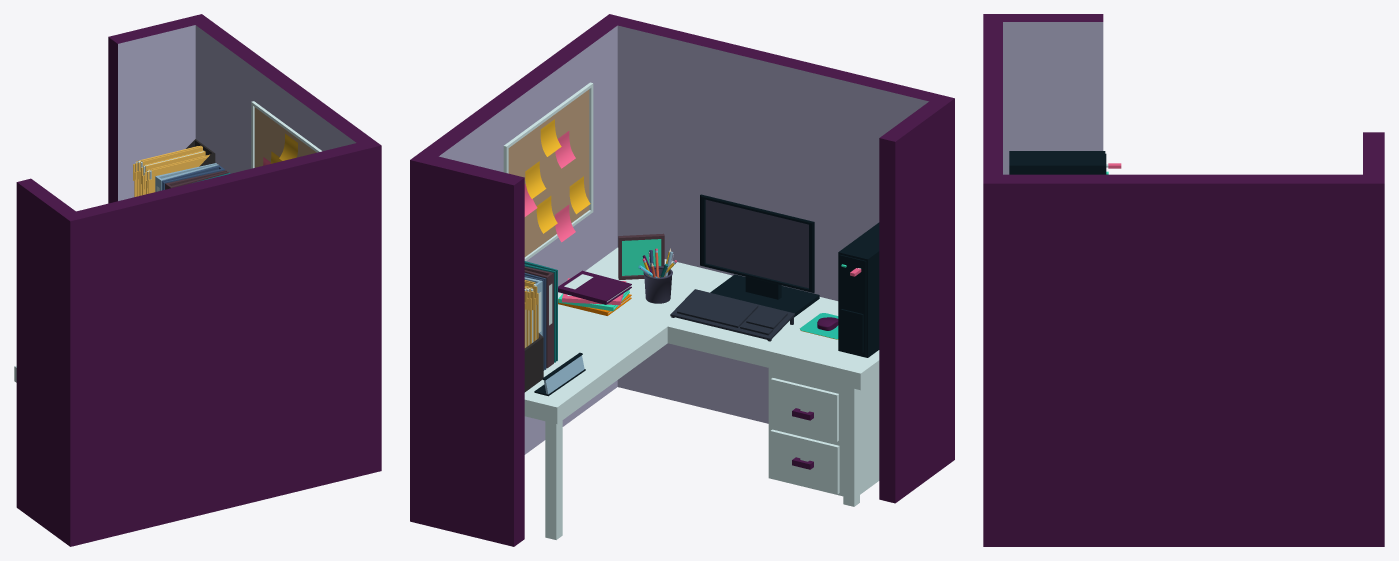
File: Cubicle01.fbx
3 views of the same model, side by side, from view 1: azimuth 30°, elevation 25°; view 2: azimuth 150°, elevation 25°; view 3: azimuth 270°, elevation 25° (orthographic). The views are drawn at different scales.
Parts seen in each view (by area): view 1: Cubicle, CorkBoard, FolderEmpty001, FolderEmpty001.002, FolderEmpty001.005; view 2: Cubicle, CubicleDesk, Desktop, CorkBoard, Desktop Hardrive, Keyboard, PhotoFrame, Notebook.002, NamePlate, Binder, FolderHolder, CupHolder; view 3: Cubicle, Desktop Hardrive.
Boxes of the visible parts, x1,y1,x2,y2 form: Cubicle: (16, 14, 381, 546); CorkBoard: (251, 101, 321, 168); FolderEmpty001: (147, 154, 209, 193); FolderEmpty001.002: (141, 150, 205, 195); FolderEmpty001.005: (138, 145, 202, 195); Cubicle: (410, 14, 954, 546); CubicleDesk: (524, 247, 879, 539); Desktop: (700, 194, 819, 317); CorkBoard: (503, 82, 593, 260); Desktop Hardrive: (838, 222, 879, 357); Keyboard: (670, 289, 794, 341); PhotoFrame: (618, 233, 664, 279); Notebook.002: (558, 270, 631, 304); NamePlate: (534, 352, 585, 396); Binder: (524, 266, 553, 368); FolderHolder: (524, 333, 543, 392); CupHolder: (643, 266, 672, 303); Cubicle: (983, 14, 1384, 546); Desktop Hardrive: (1009, 151, 1121, 174).
Bounding box in the file's own units: 99967 × 99967 × 99967.
Materials: 30 (30 with a texture image).
